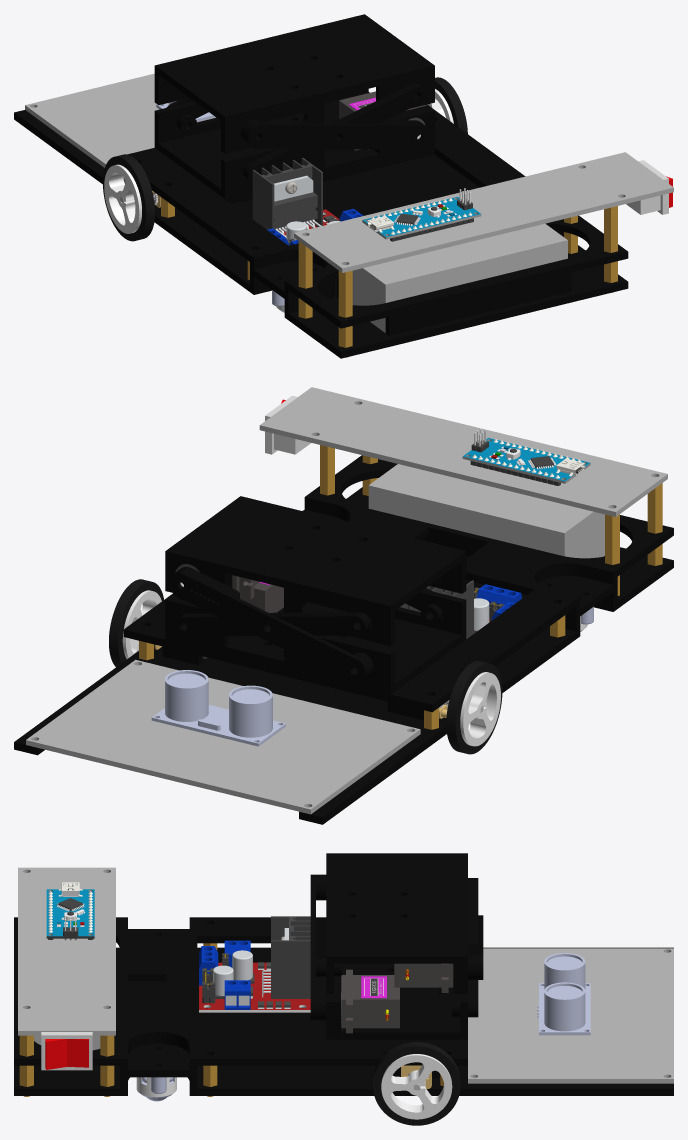
Rendered from AGV.glb.
The picture shows the model from 3 angles, top to bottom: view 1: azimuth 30°, elevation 25°; view 2: azimuth 150°, elevation 25°; view 3: azimuth 270°, elevation 25°; orthographic projection. The views are drawn at different scales.
Visible parts, largest first — view 1: Node16, Node12, Node14, Node8, Node10, Node17, Node27, Node15, Node19, Node20, Node33, Node25; view 2: Node16, Node12, Node7, Node8, Node17, Node10, Node27, Node25, Node14, Node19, Node20, Node33 (+1 smaller); view 3: Node16, Node12, Node7, Node14, Node25, Node10, Node17, Node8, Node15, Node4, Node27, Node23 (+5 smaller).
Boxes of the visible parts, x1,y1,x2,y2 form: Node16: (14,14,628,358); Node12: (25,73,673,332); Node14: (252,158,338,245); Node8: (161,197,617,357); Node10: (104,89,453,311); Node17: (103,77,467,241); Node27: (363,196,480,237); Node15: (274,175,340,245); Node19: (376,160,668,229); Node20: (370,199,473,241); Node33: (367,198,472,234); Node25: (339,91,426,150); Node16: (14,455,673,824); Node12: (26,387,667,814); Node7: (151,606,593,746); Node8: (139,445,662,729); Node17: (109,579,502,754); Node10: (122,590,587,746); Node27: (463,438,590,481); Node25: (175,564,283,612); Node14: (400,580,504,638); Node19: (265,395,570,476); Node20: (470,440,582,485); Node33: (472,439,584,478); Node16: (14,853,673,1095); Node12: (18,867,673,1083); Node7: (140,953,590,1101); Node14: (202,916,310,1007); Node25: (341,963,453,1033); Node10: (136,978,452,1119); Node17: (373,1042,460,1125); Node8: (19,943,443,1096); Node15: (213,928,290,1008); Node4: (199,940,250,1009); Node27: (46,889,94,936); Node23: (45,1039,88,1069).
Bounding box in the file's own units: 0.1667 × 0.0606 × 0.2562.
